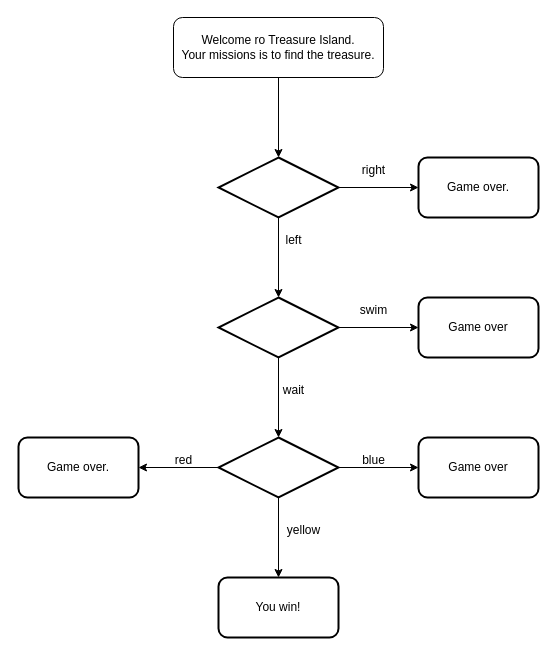
Some shapes in this 556 by 656 pixel diagram are drawn without their labels. The shapes that lost their labels are listed below. From the top down, each one's centre as x and y in pixels, then its label:
At point 278,187: "left or right?".
At point 278,327: "swim or wait?".
At point 278,467: "which door?".
